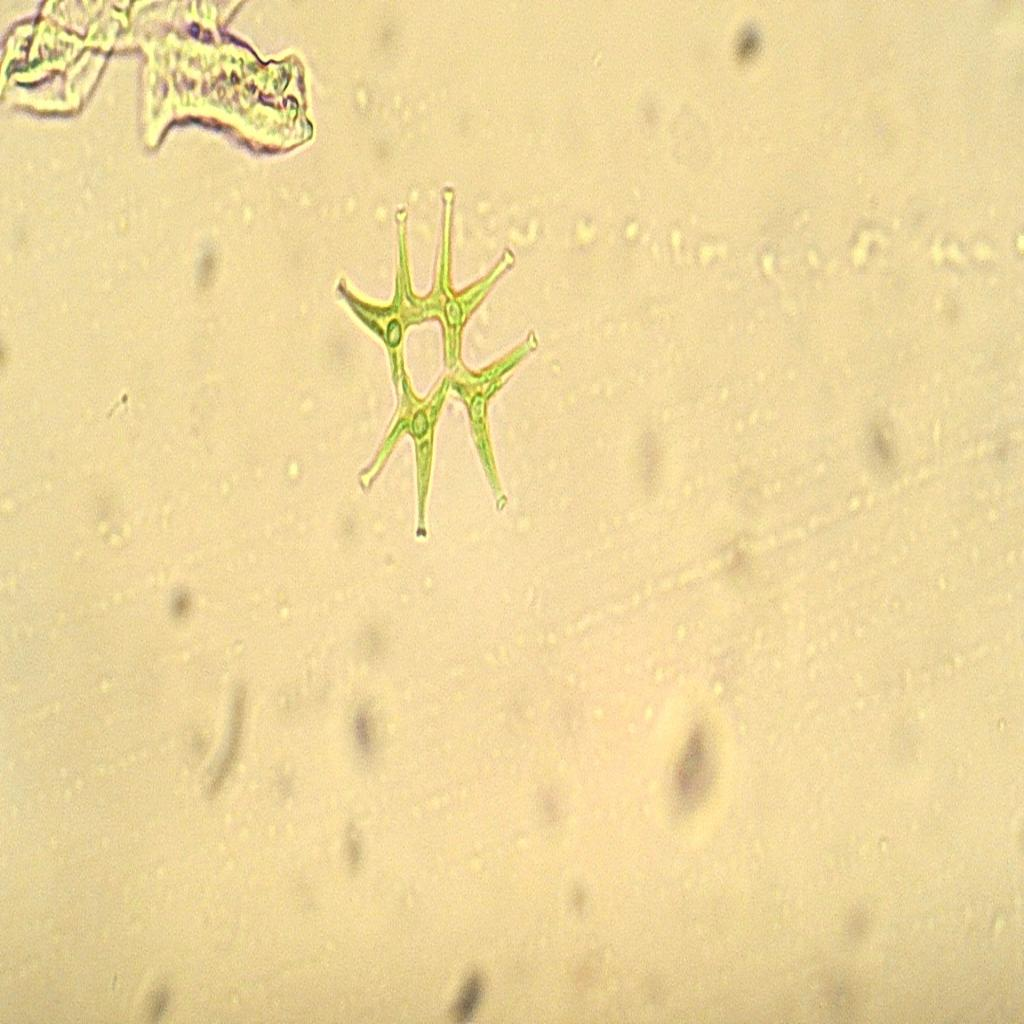Pediastrum_CT: (320, 178, 546, 549)
